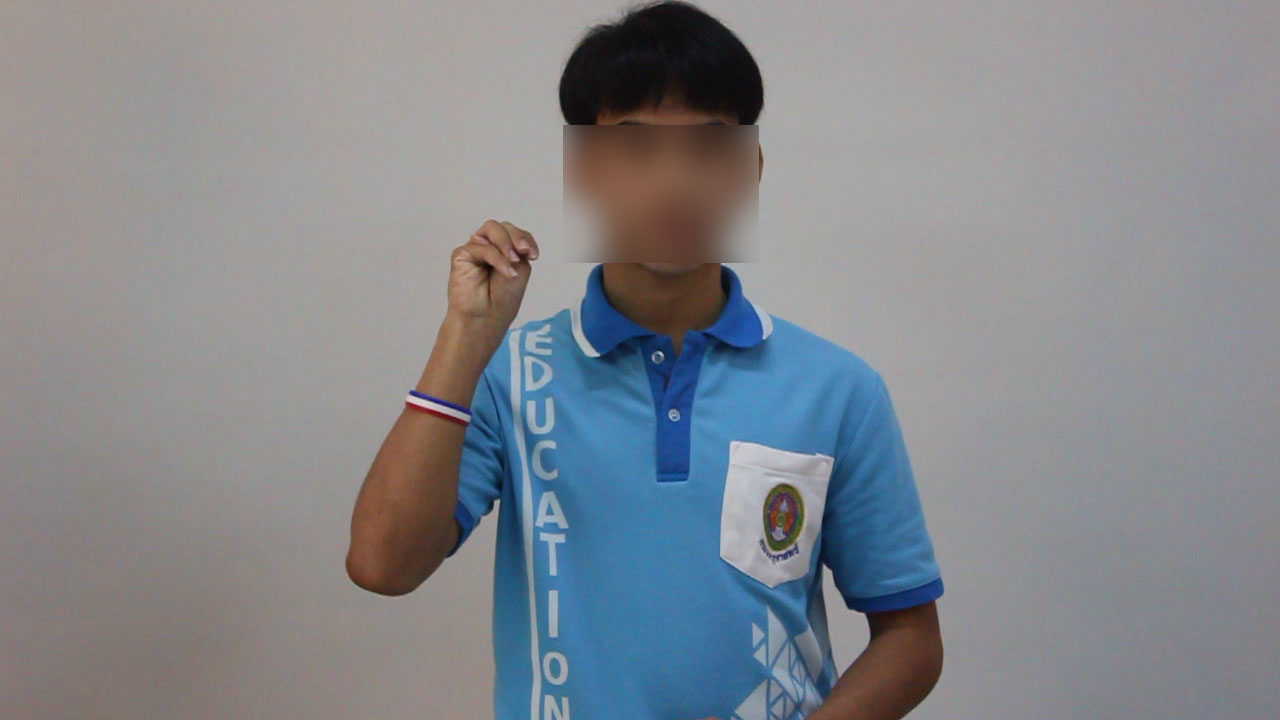mor: (439, 201, 546, 341)
